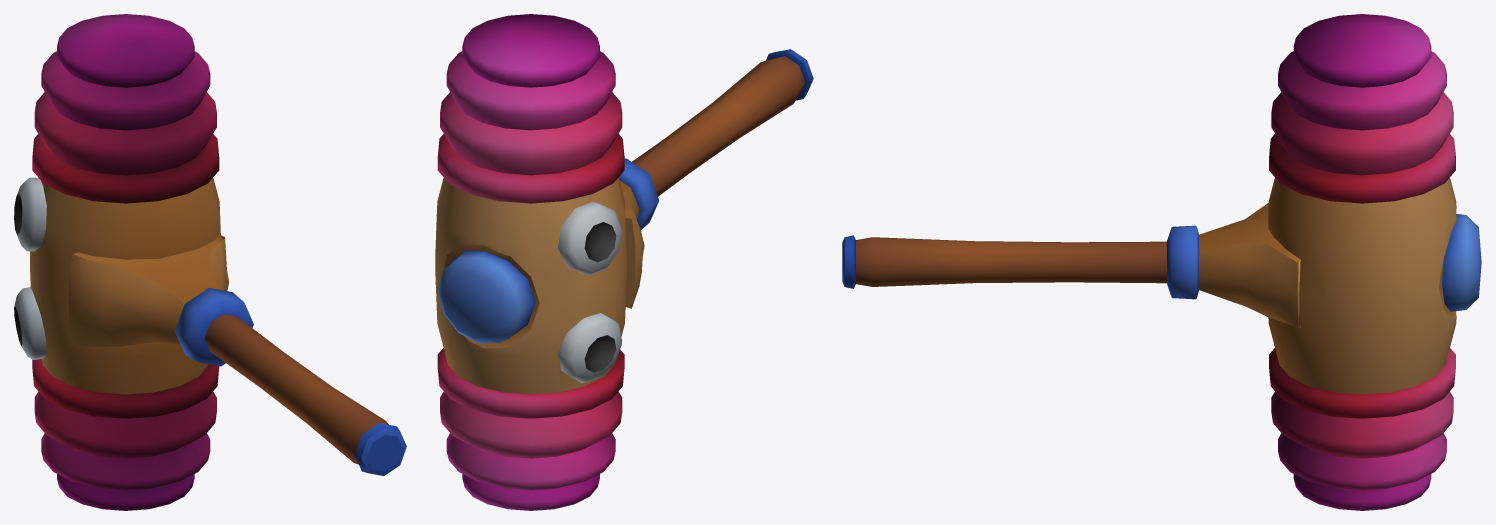
File: Melee_ToyMelee.fbx
3 views of the same model, side by side, from view 1: azimuth 30°, elevation 25°; view 2: azimuth 150°, elevation 25°; view 3: azimuth 270°, elevation 25° (orthographic).
Parts seen in each view (by area): view 1: Melee_ToyMelee; view 2: Melee_ToyMelee; view 3: Melee_ToyMelee.
Part boxes in pixels (<box>): Melee_ToyMelee: <box>14,14,406,510</box>; Melee_ToyMelee: <box>435,14,813,510</box>; Melee_ToyMelee: <box>842,14,1481,510</box>.
Bounding box in the file's own units: 0.3405 × 0.8353 × 1.05.
